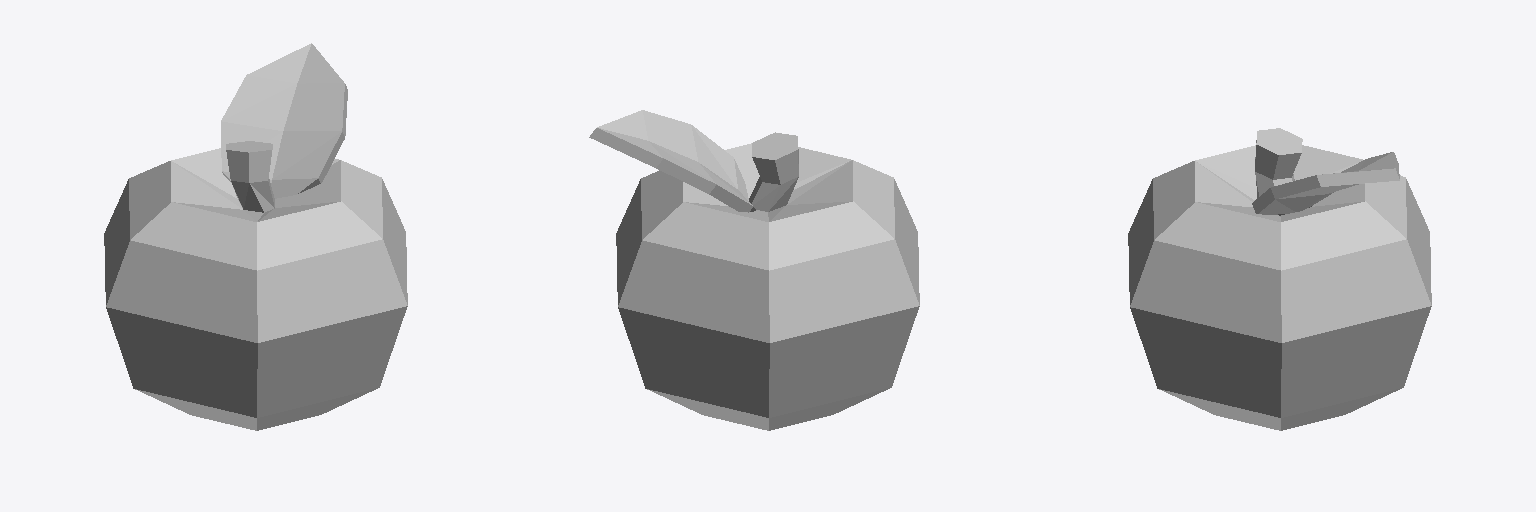
File: apple.obj
3 views of the same model, side by side, from view 1: azimuth 30°, elevation 25°; view 2: azimuth 150°, elevation 25°; view 3: azimuth 270°, elevation 25° (orthographic).
Visible parts, largest first — view 1: Plane.001; view 2: Plane.001; view 3: Plane.001.
Boxes of the visible parts, x1,y1,x2,y2 form: Plane.001: [104, 43, 407, 430]; Plane.001: [589, 110, 919, 430]; Plane.001: [1128, 128, 1431, 430].
Bounding box in the file's own units: 2.45 × 2.22 × 2.13.